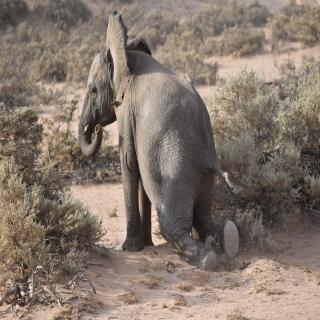Elephant: (75, 9, 243, 274)
